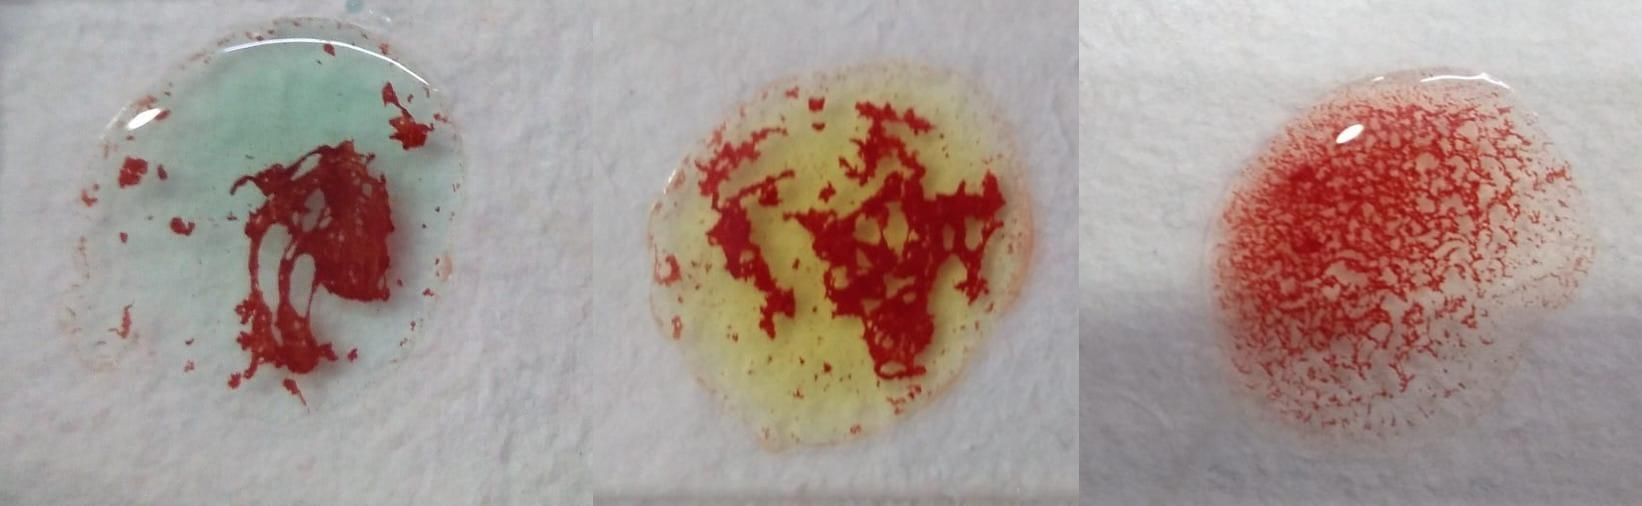A: (95, 37, 465, 400)
B: (670, 75, 1001, 424)
D: (1216, 69, 1571, 433)
